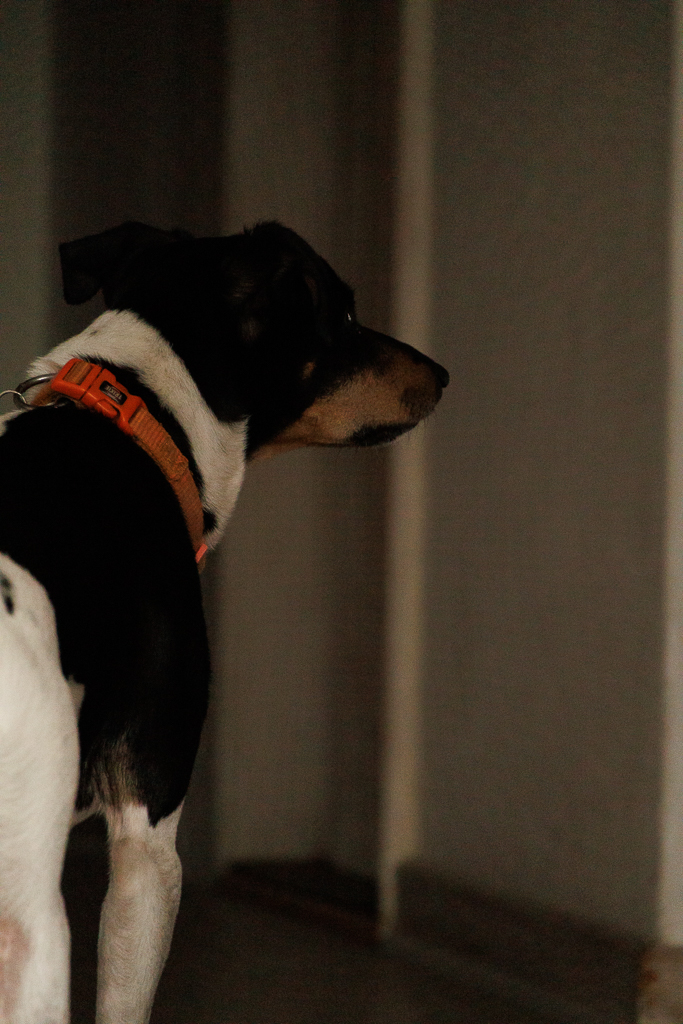Dog: (0, 201, 471, 1024)
